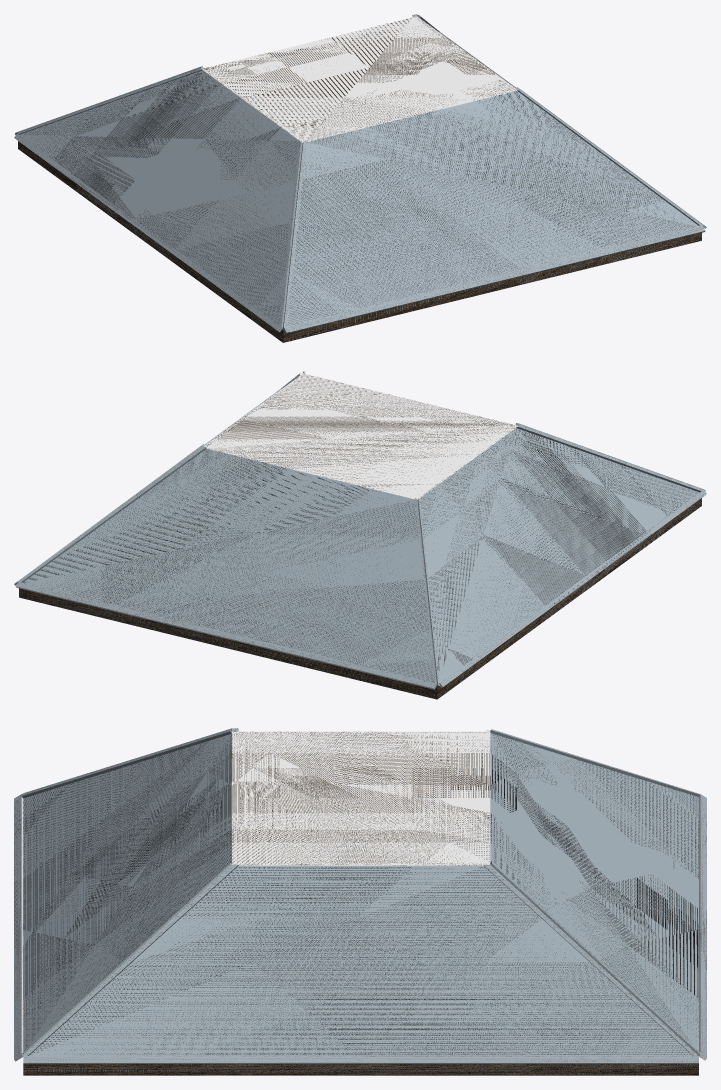
The picture shows the model from 3 angles, top to bottom: view 1: azimuth 30°, elevation 25°; view 2: azimuth 150°, elevation 25°; view 3: azimuth 270°, elevation 25°; orthographic projection. The views are drawn at different scales.
Visible parts, largest first — view 1: Model; view 2: Model; view 3: Model.
Boxes of the visible parts, x1,y1,x2,y2 form: Model: [14, 14, 706, 342]; Model: [14, 371, 706, 699]; Model: [14, 728, 706, 1075].
Bounding box in the file's own units: 71.43 × 18.61 × 78.43.
